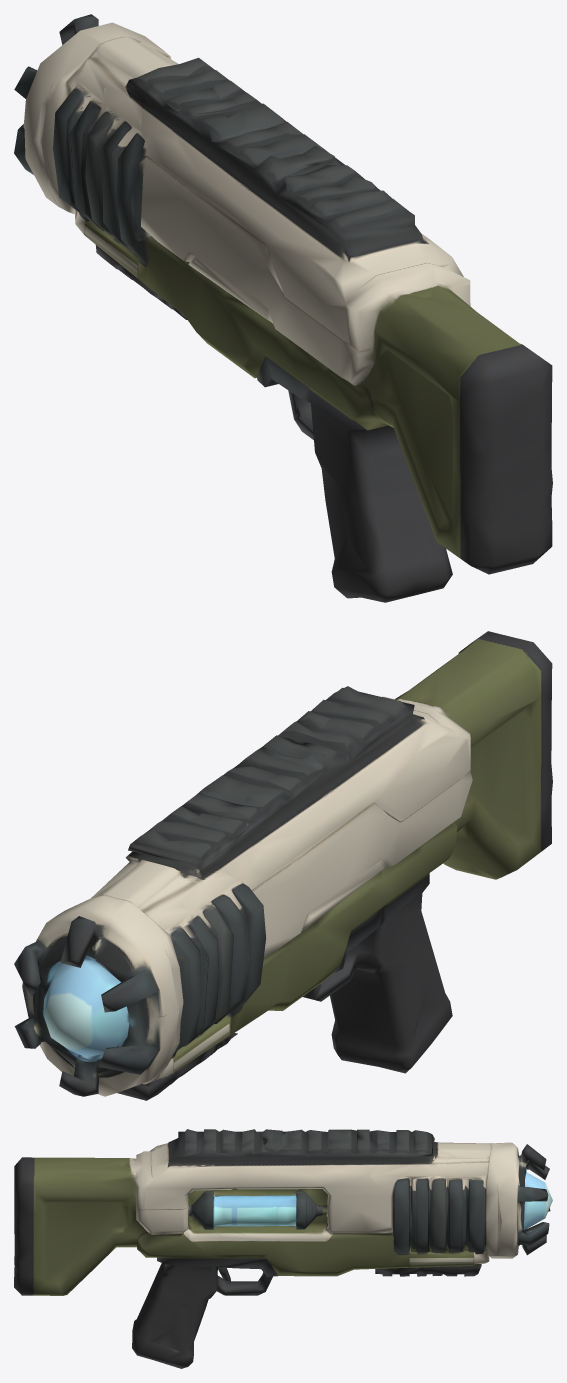
The model's file is arc_tripo_raw.glb.
3 views of the same model, one above another, from view 1: azimuth 30°, elevation 25°; view 2: azimuth 150°, elevation 25°; view 3: azimuth 270°, elevation 25° (orthographic). The views are drawn at different scales.
Parts seen in each view (by area): view 1: tripo_node_0c4406fc-d1a9-4fc2-a812-b83ee06fcb76; view 2: tripo_node_0c4406fc-d1a9-4fc2-a812-b83ee06fcb76; view 3: tripo_node_0c4406fc-d1a9-4fc2-a812-b83ee06fcb76.
Boxes of the visible parts, box(x1,y1,x2,y2) form: tripo_node_0c4406fc-d1a9-4fc2-a812-b83ee06fcb76: box(14, 14, 552, 602); tripo_node_0c4406fc-d1a9-4fc2-a812-b83ee06fcb76: box(14, 631, 552, 1100); tripo_node_0c4406fc-d1a9-4fc2-a812-b83ee06fcb76: box(14, 1129, 552, 1368).
Bounding box in the file's own units: 0.1852 × 0.4585 × 1.
Materials: 1 (1 with a texture image).
